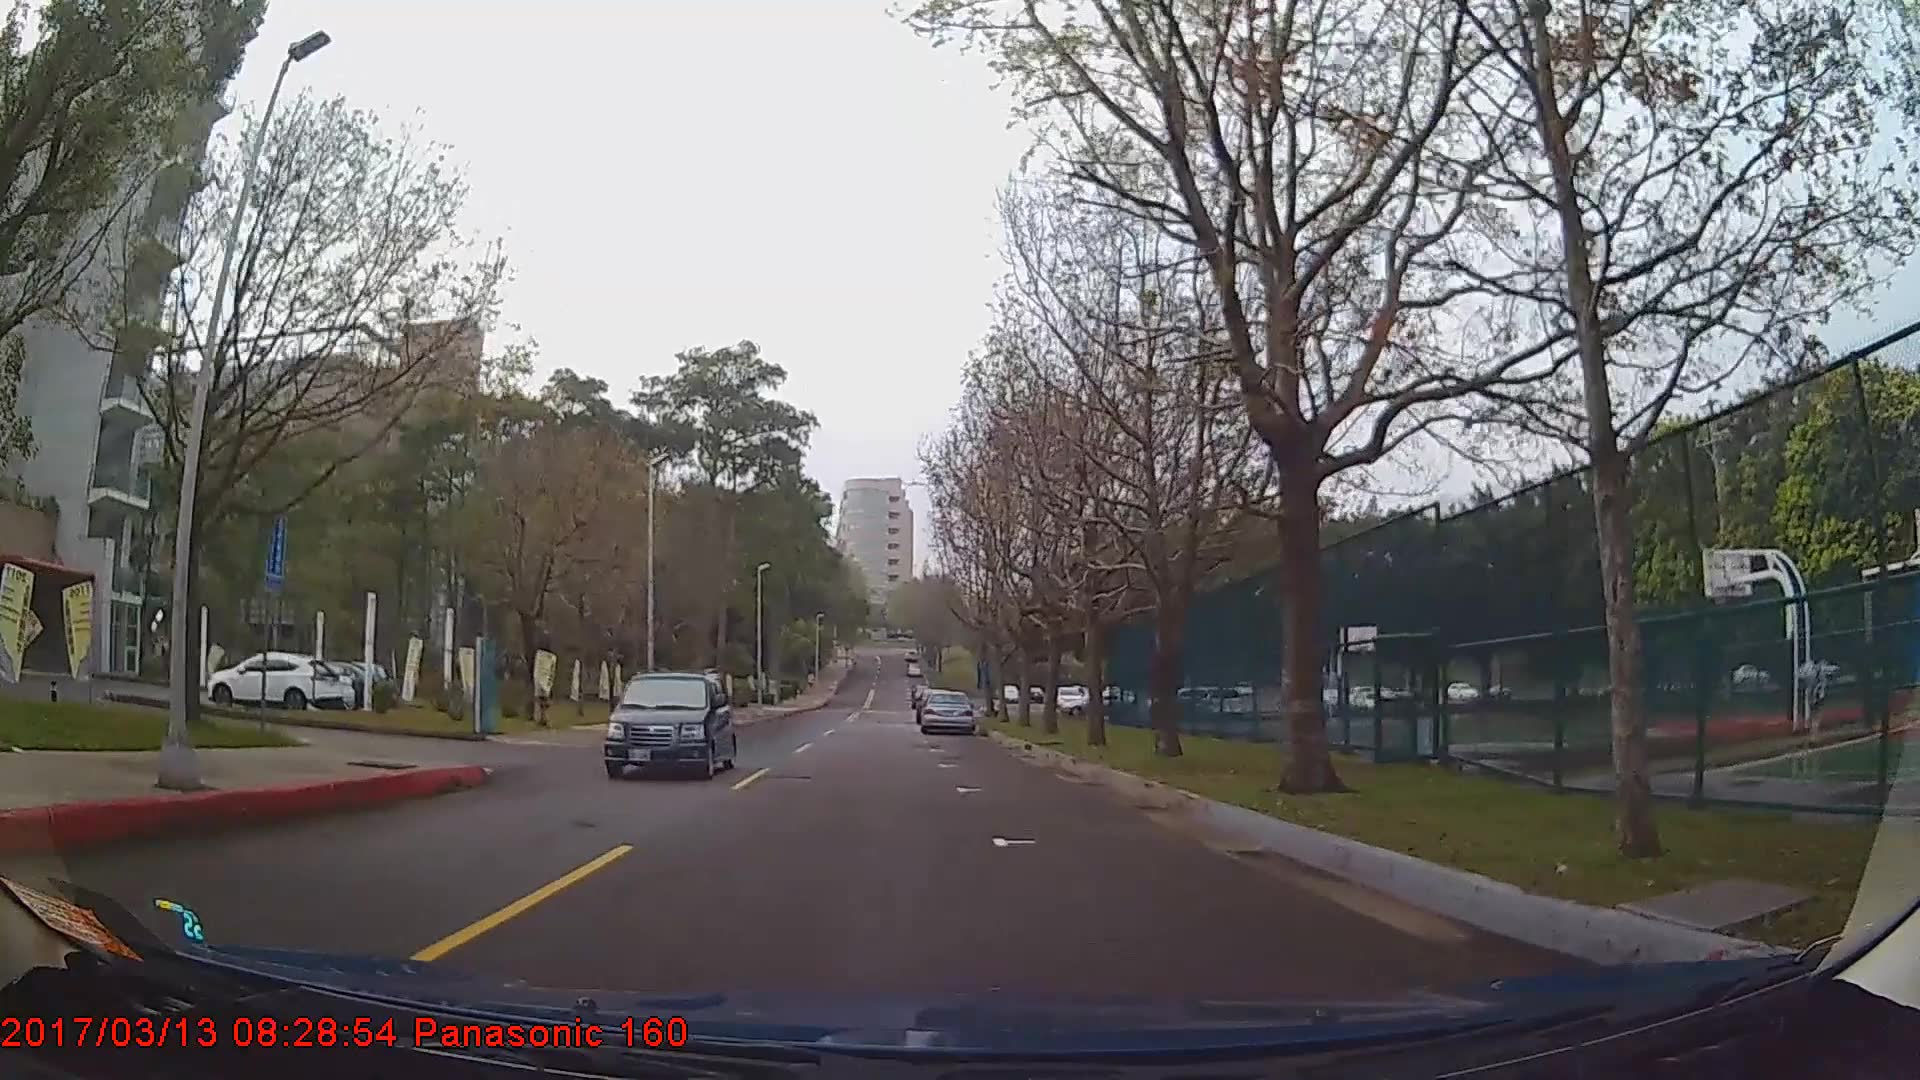vehicle: (600, 669, 735, 781), (204, 647, 342, 713), (919, 688, 975, 736)
